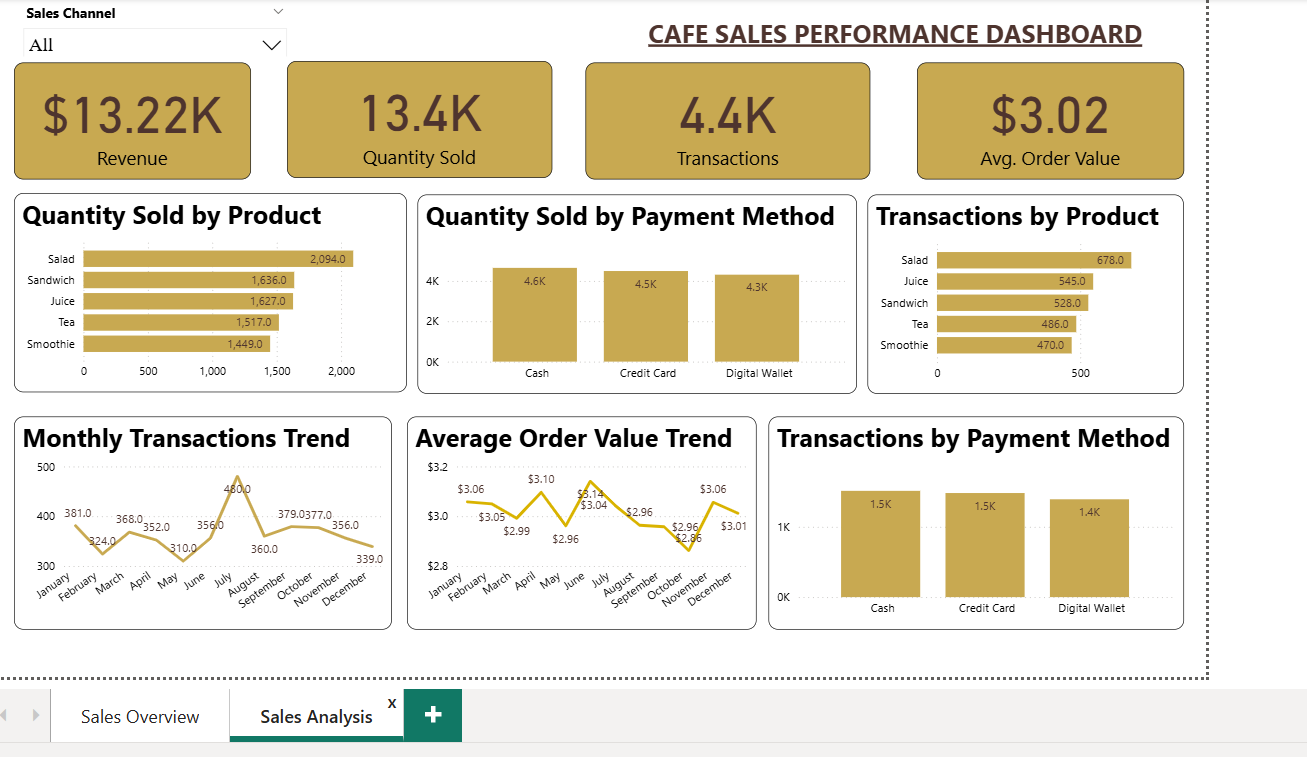

Layout of this report page (visuals, bound fields, positions):
{"tool":"powerbi","page":{"name":"Sales Analysis","canvas":[1280,720],"ordinal":1},"visuals":[{"type":"card","fields":{"Values":["cafe_sales.Total PPU"]},"box":[15.9,68.4,251.3,124.1],"z":0},{"type":"card","fields":{"Values":["cafe_sales.Total Quantity"]},"box":[305.4,66.8,281.5,124.1],"z":1000},{"type":"card","fields":{"Values":["cafe_sales.No of trans"]},"box":[621.9,68.4,302.2,124.1],"z":2000},{"type":"card","fields":{"Values":["cafe_sales.Avg.Price Per Unit"]},"box":[973.5,68.4,283.1,124.1],"z":3000},{"type":"barChart","title":"Quantity Sold by Product","fields":{"Category":["cafe_sales.Item"],"Y":["cafe_sales.Quantity Sold"]},"box":[15.9,206.8,416.7,211.6],"z":4000},{"type":"columnChart","title":"Quantity Sold by Payment Method","fields":{"Category":["cafe_sales.Payment Method"],"Y":["cafe_sales.Quantity Sold"]},"box":[443.8,208.4,466,211.6],"z":5000},{"type":"barChart","title":"Transactions by Product","fields":{"Category":["cafe_sales.Item"],"Y":["cafe_sales.Transactions"]},"box":[921,208.4,335.6,211.6],"z":6000},{"type":"columnChart","title":"Transactions by Payment Method","fields":{"Category":["cafe_sales.Payment Method"],"Y":["cafe_sales.Transactions"]},"box":[816,443.8,440.6,225.9],"z":7000},{"type":"lineChart","title":"Monthly Transactions Trend","fields":{"Category":["cafe_sales.Transaction Date.Variation.Date Hierarchy.Month"],"Y":["cafe_sales.Transactions"]},"box":[15.9,443.8,400.8,225.9],"z":8000},{"type":"lineChart","title":"Average Order Value Trend","fields":{"Category":["cafe_sales.Transaction Date.Variation.Date Hierarchy.Month"],"Y":["cafe_sales.Avg. Order Value"]},"box":[432.6,443.8,370.6,225.9],"z":9000},{"type":"slicer","fields":{"Values":["cafe_sales.Sales Channel"]},"box":[15.9,0,299,62],"z":10000},{"type":"shape","box":[650.6,11.1,599.7,50.9],"z":11000}]}

Visuals, with their boxes on the page's 1280x720 design canvas (x1, y1, x2, y2). These are canvas units, not pixel positions in the 1307x757 screenshot, which may show the page scaled, cropped or inside an application window:
card - cafe_sales.Total PPU: locate(16, 68, 267, 192)
card - cafe_sales.Total Quantity: locate(305, 67, 587, 191)
card - cafe_sales.No of trans: locate(622, 68, 924, 192)
card - cafe_sales.Avg.Price Per Unit: locate(974, 68, 1257, 192)
"Quantity Sold by Product" barChart: locate(16, 207, 433, 418)
"Quantity Sold by Payment Method" columnChart: locate(444, 208, 910, 420)
"Transactions by Product" barChart: locate(921, 208, 1257, 420)
"Transactions by Payment Method" columnChart: locate(816, 444, 1257, 670)
"Monthly Transactions Trend" lineChart: locate(16, 444, 417, 670)
"Average Order Value Trend" lineChart: locate(433, 444, 803, 670)
slicer - cafe_sales.Sales Channel: locate(16, 0, 315, 62)
shape: locate(651, 11, 1250, 62)
